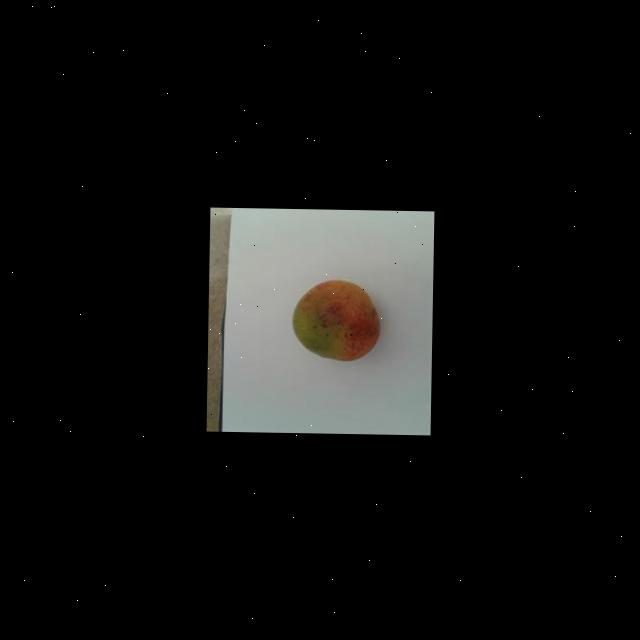Mango: (290, 278, 380, 362)
